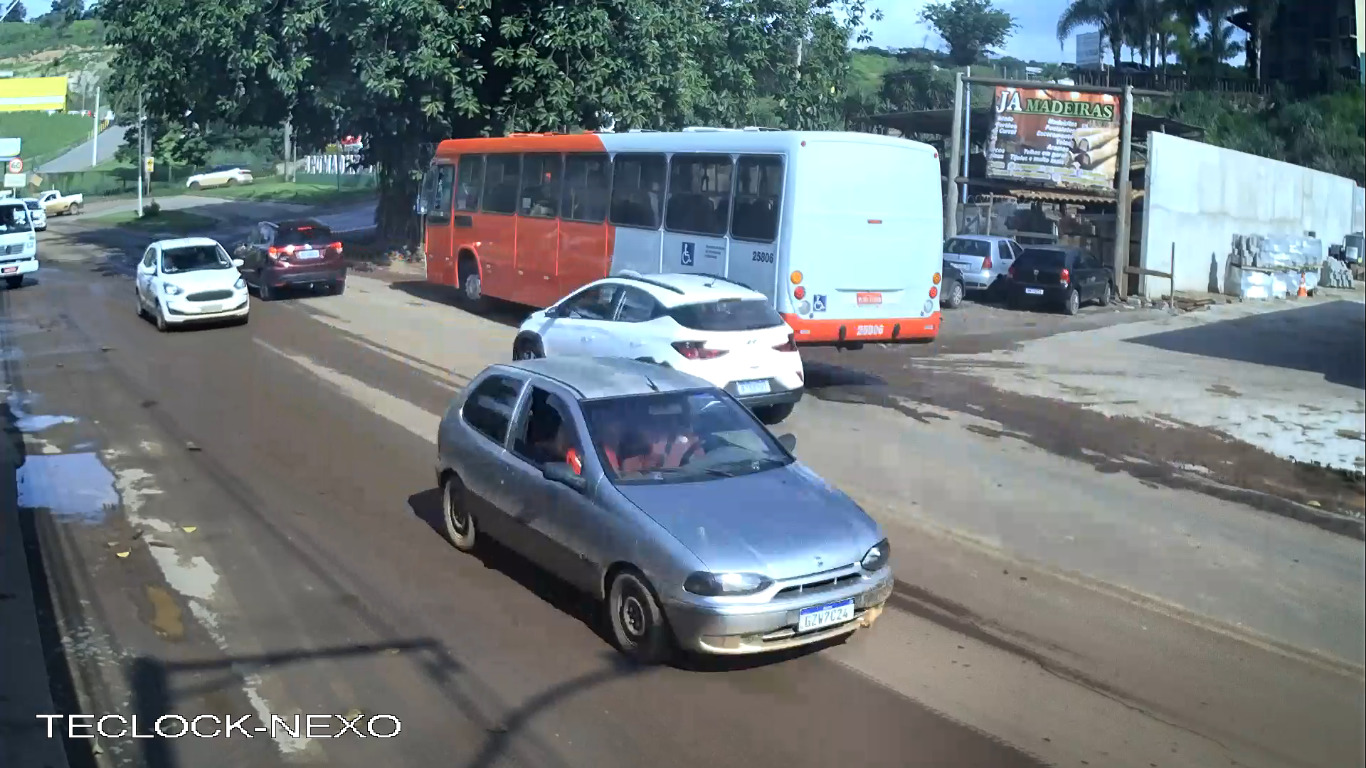car: (507, 263, 812, 439), (129, 235, 254, 335), (224, 216, 352, 306)
